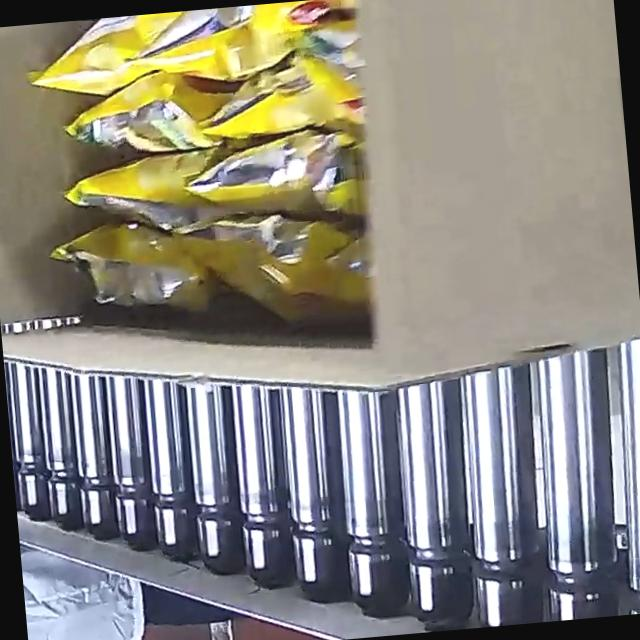salted: (17, 0, 410, 303)
